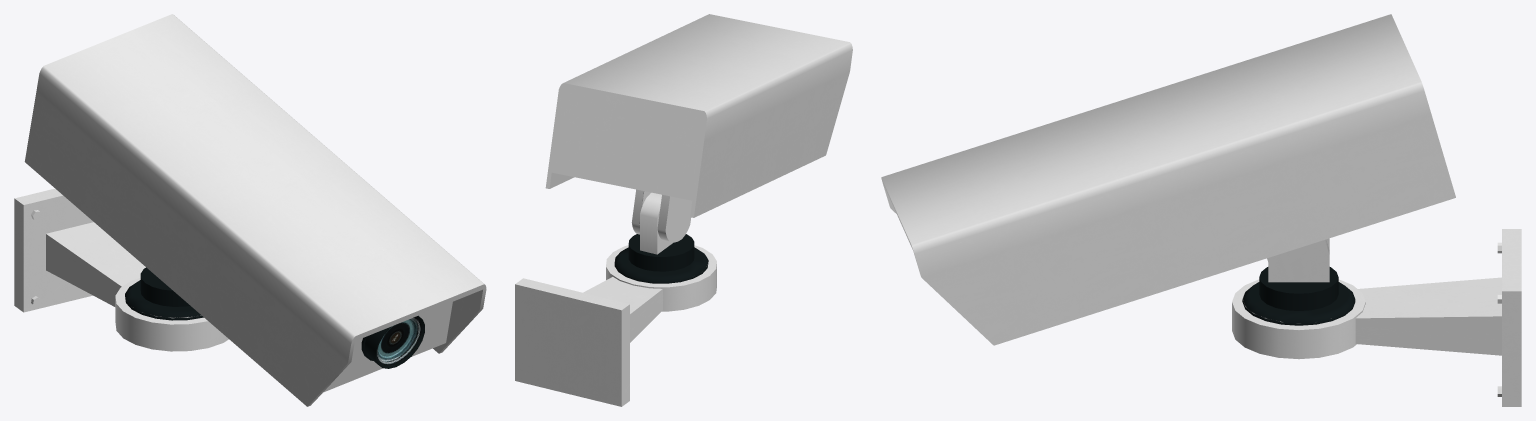
Rendered from kamera.glb.
3 views of the same model, side by side, from view 1: azimuth 30°, elevation 25°; view 2: azimuth 150°, elevation 25°; view 3: azimuth 270°, elevation 25° (orthographic). The views are drawn at different scales.
Visible parts, largest first — view 1: CameraMain, CameraHolder_CameraHolder_0; view 2: CameraMain, CameraHolder_CameraHolder_0, CameraMiddle_CameraMiddle_0; view 3: CameraMain, CameraHolder_CameraHolder_0, CameraMiddle_CameraMiddle_0.
Boxes of the visible parts, left/top/right/bottom form: CameraMain: left=24, top=14, right=486, bottom=406; CameraHolder_CameraHolder_0: left=14, top=188, right=228, bottom=351; CameraMain: left=545, top=14, right=852, bottom=217; CameraHolder_CameraHolder_0: left=515, top=192, right=716, bottom=406; CameraMiddle_CameraMiddle_0: left=631, top=189, right=691, bottom=242; CameraMain: left=881, top=14, right=1455, bottom=345; CameraHolder_CameraHolder_0: left=1232, top=229, right=1521, bottom=406; CameraMiddle_CameraMiddle_0: left=1267, top=239, right=1329, bottom=280.
Size of the model in its own units: 0.3054 by 0.3877 by 0.6998.
Materials: 4 (3 with a texture image).
